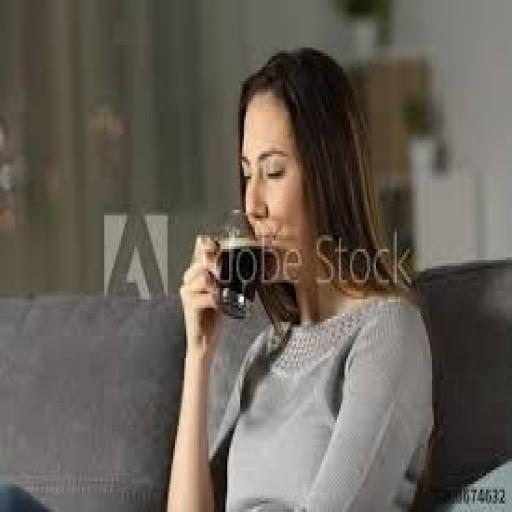drinking: (152, 48, 442, 388)
